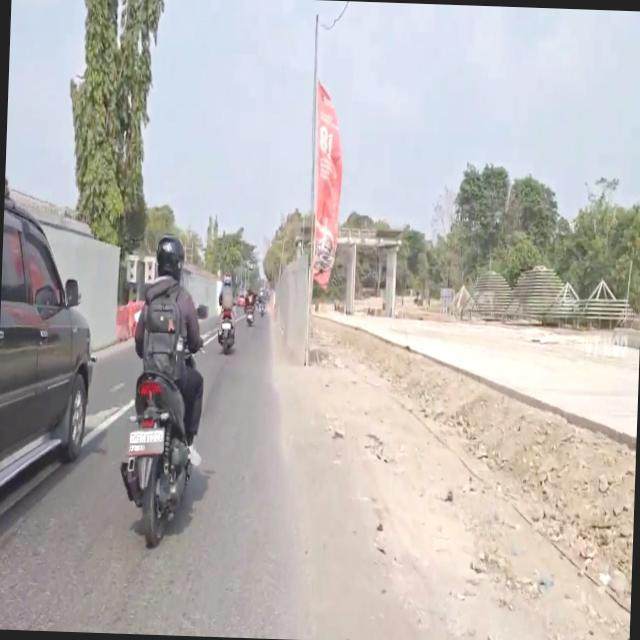WithHelmet: (129, 234, 209, 468), (215, 274, 238, 348)
